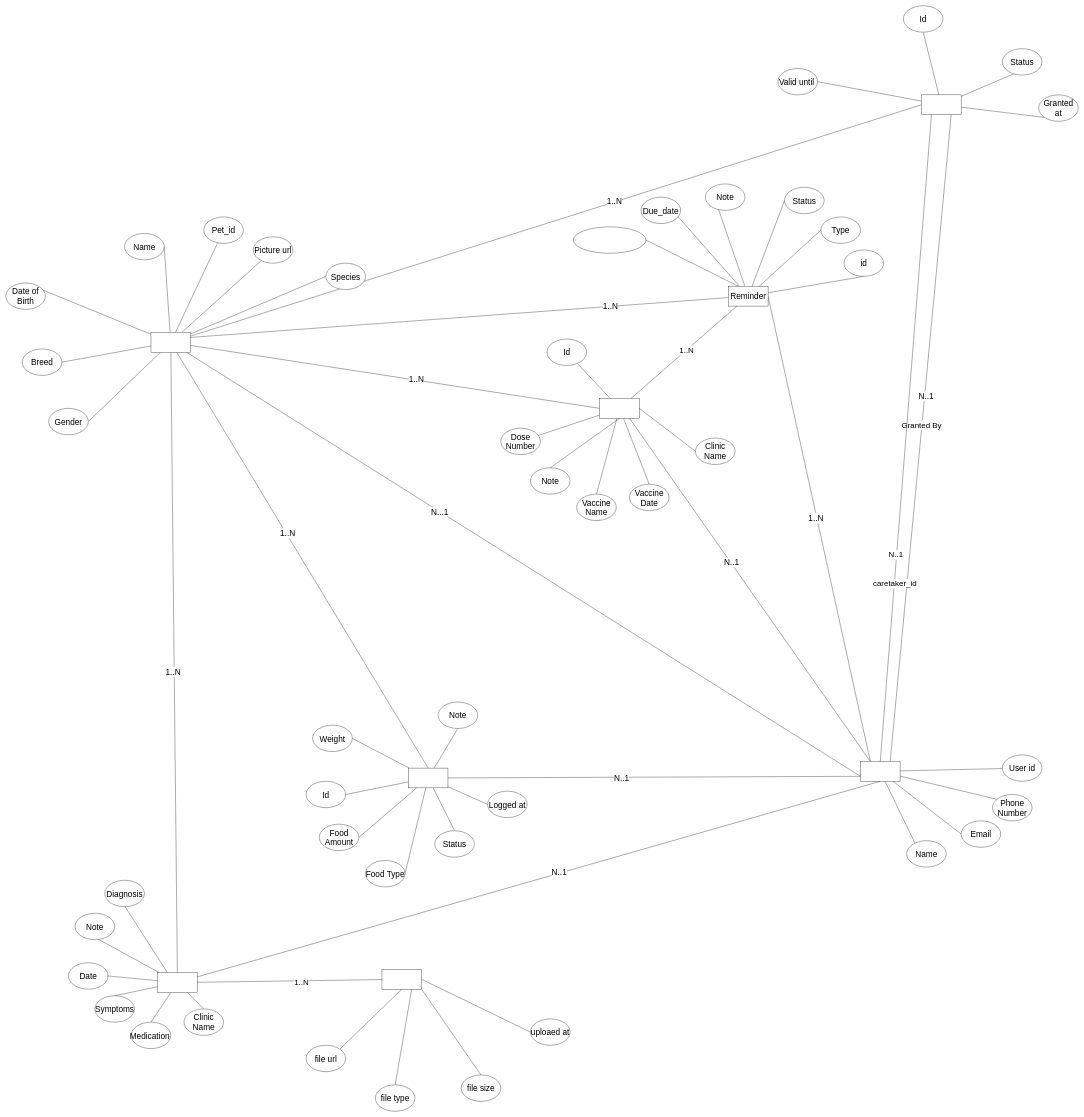
Some shapes in this 1084 by 1117 pixel diagram are drawn without their labels. Each missing label, with the box of its shape:
Health Log: (408, 768, 448, 788)
Medical Attachment: (382, 969, 422, 989)
Medical Record: (157, 972, 197, 992)
Pet: (151, 332, 191, 352)
Pet Access: (921, 95, 961, 115)
source vaccine record id: (573, 227, 646, 253)
User: (860, 761, 900, 781)
Vaccine Record: (599, 398, 639, 418)
